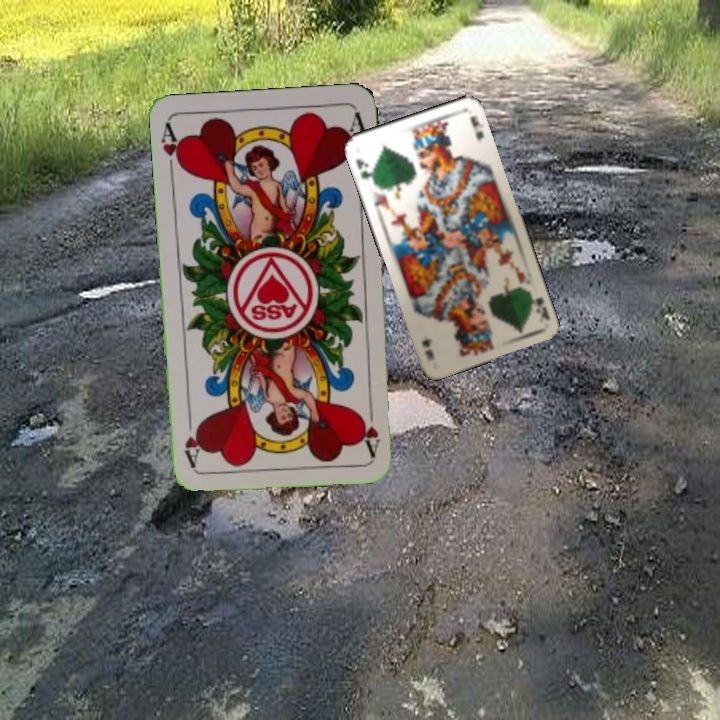GK: (526, 288, 552, 323), (351, 155, 378, 186)
HA: (157, 119, 186, 179), (361, 398, 383, 457)
